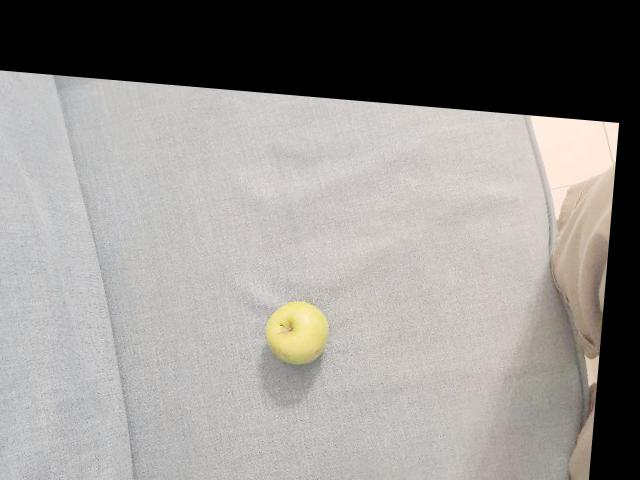apple: (263, 279, 351, 363)
